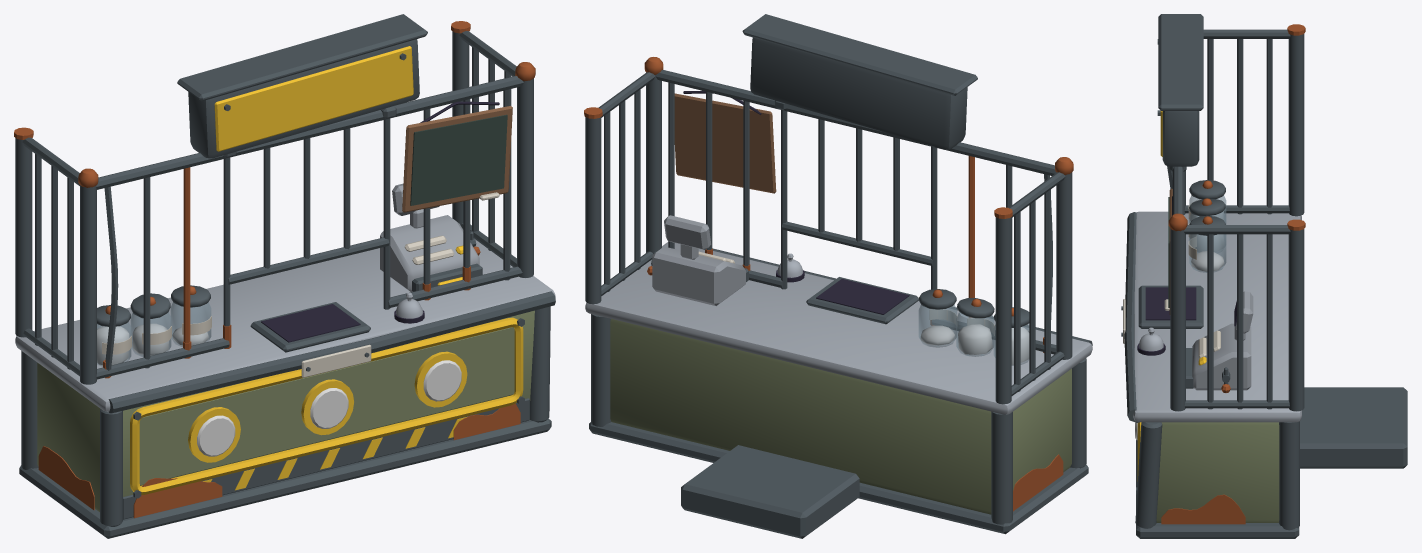
Rendered from shop_cage.glb.
The picture shows the model from 3 angles, left to right: view 1: azimuth 30°, elevation 25°; view 2: azimuth 150°, elevation 25°; view 3: azimuth 270°, elevation 25°; orthographic projection. The views are drawn at different scales.
Visible parts, largest first — view 1: Counter, Glass__2, Glass__3, Glass__1, Face__3, Face__1, Face__2, Ring__3, Ring__1, Ring__2, Fill__1; view 2: Counter, Glass__3, Glass__2, Fill__2, Glass__1; view 3: Counter, Glass__3, Glass__1, Glass__2, Fill__3.
Boxes of the visible parts, x1,y1,x2,y2 form: Counter: (14, 14, 555, 538); Glass__2: (130, 293, 171, 356); Glass__3: (170, 285, 211, 346); Glass__1: (97, 305, 131, 366); Face__3: (423, 360, 461, 401); Face__1: (197, 415, 235, 456); Face__2: (310, 388, 348, 428); Ring__3: (414, 351, 467, 407); Ring__1: (188, 407, 240, 462); Ring__2: (301, 379, 353, 435); Fill__1: (97, 326, 129, 364); Counter: (584, 14, 1092, 538); Glass__3: (918, 289, 957, 347); Glass__2: (956, 298, 994, 356); Fill__2: (958, 324, 992, 354); Glass__1: (993, 307, 1029, 365); Counter: (1121, 14, 1407, 538); Glass__3: (1188, 215, 1226, 272); Glass__1: (1188, 180, 1226, 222); Glass__2: (1188, 198, 1226, 252); Fill__3: (1191, 251, 1224, 271).
Size of the model in its own units: 3.41 by 3.02 by 2.03.
